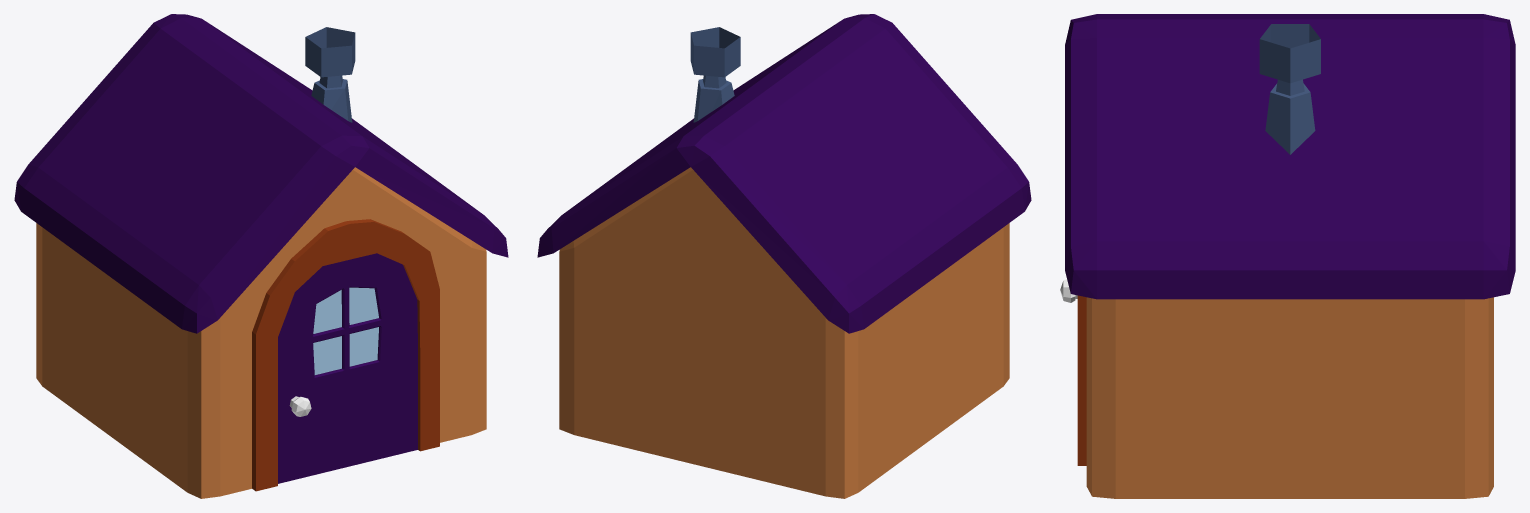
The model's file is house_purple.fbx.
3 views of the same model, side by side, from view 1: azimuth 30°, elevation 25°; view 2: azimuth 150°, elevation 25°; view 3: azimuth 270°, elevation 25° (orthographic). The views are drawn at different scales.
Visible parts, largest first — view 1: house; view 2: house; view 3: house.
Boxes of the visible parts, x1,y1,x2,y2 form: house: (14, 14, 508, 498); house: (537, 14, 1031, 498); house: (1060, 14, 1515, 498).
Size of the model in its own units: 273 by 284 by 280.
